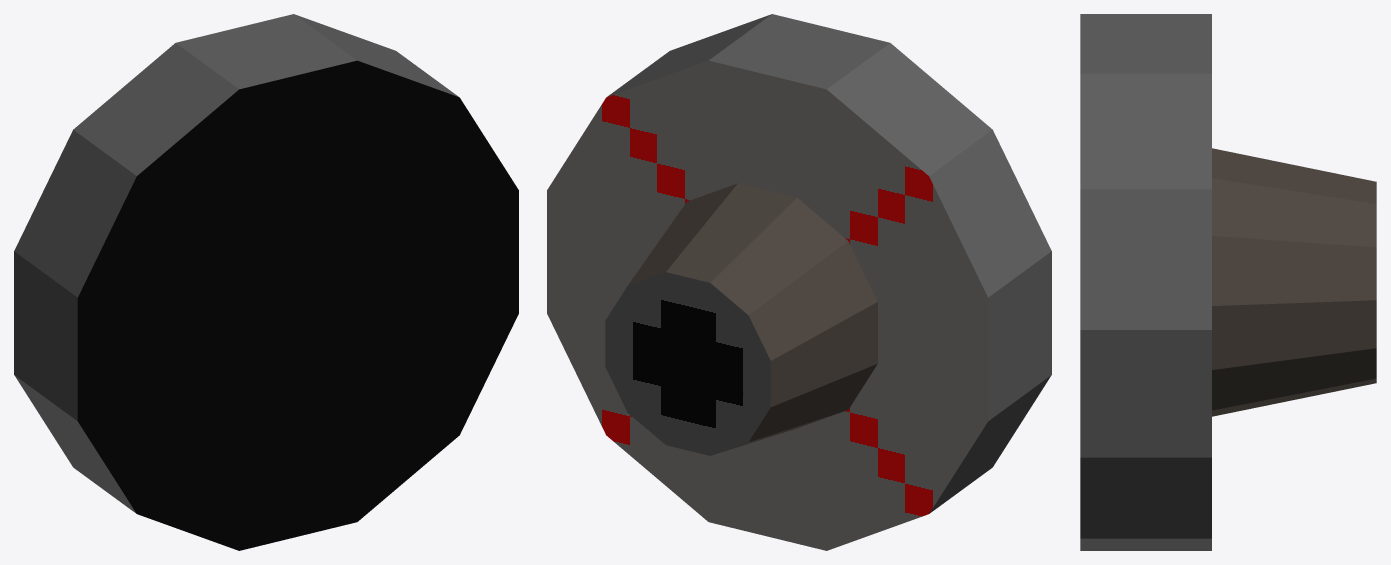
The model's file is LaserShooter.fbx.
3 views of the same model, side by side, from view 1: azimuth 30°, elevation 25°; view 2: azimuth 150°, elevation 25°; view 3: azimuth 270°, elevation 25° (orthographic). The views are drawn at different scales.
Parts seen in each view (by area): view 1: cylinder; view 2: cylinder; view 3: cylinder.
Boxes of the visible parts, x1,y1,x2,y2 form: cylinder: (14, 14, 518, 550); cylinder: (547, 14, 1051, 550); cylinder: (1080, 14, 1376, 550).
Bounding box in the file's own units: 100 × 100 × 56.25.
1 material, 1 textured.
